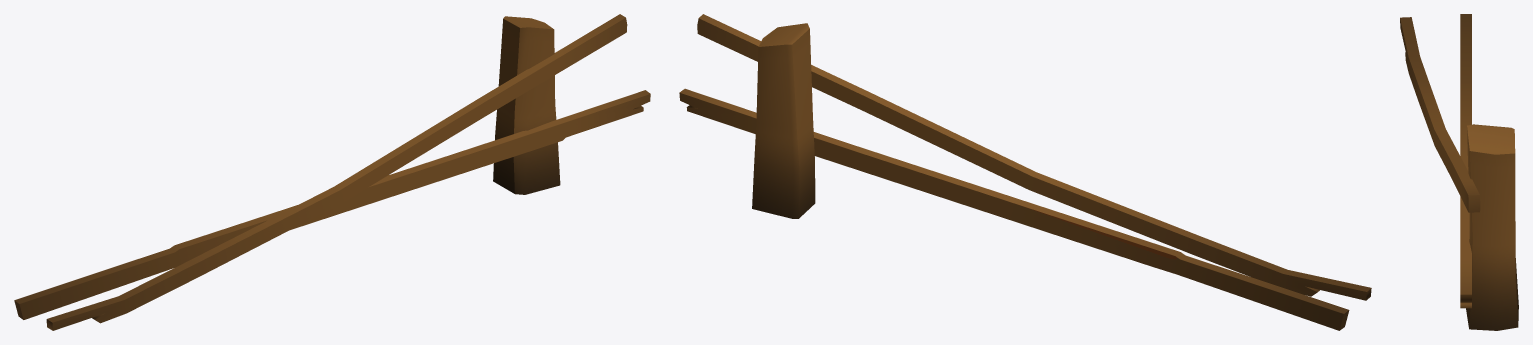
Rendered from RoadFenceWood_Damaged-01.FBX.
3 views of the same model, side by side, from view 1: azimuth 30°, elevation 25°; view 2: azimuth 150°, elevation 25°; view 3: azimuth 270°, elevation 25° (orthographic). The views are drawn at different scales.
Visible parts, largest first — view 1: RoadFenceWood_Damaged-01; view 2: RoadFenceWood_Damaged-01; view 3: RoadFenceWood_Damaged-01.
Part boxes in pixels (x1,y1,x2,y2): RoadFenceWood_Damaged-01: (14, 14, 650, 330); RoadFenceWood_Damaged-01: (679, 14, 1371, 330); RoadFenceWood_Damaged-01: (1400, 14, 1518, 330).
Bounding box in the file's own units: 458 × 116 × 67.02.
1 material, 1 textured.
